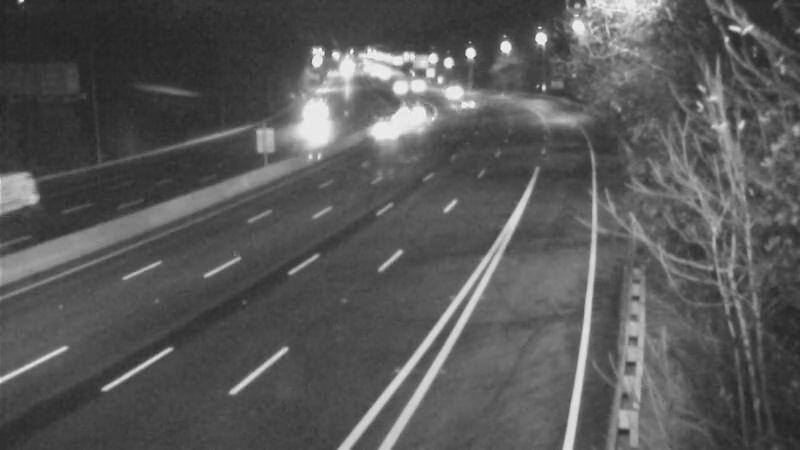vehicle: (1, 155, 68, 235), (371, 63, 421, 113), (391, 58, 441, 108), (428, 66, 478, 116), (440, 79, 490, 129), (387, 88, 437, 138), (366, 103, 416, 153), (288, 85, 338, 135)
